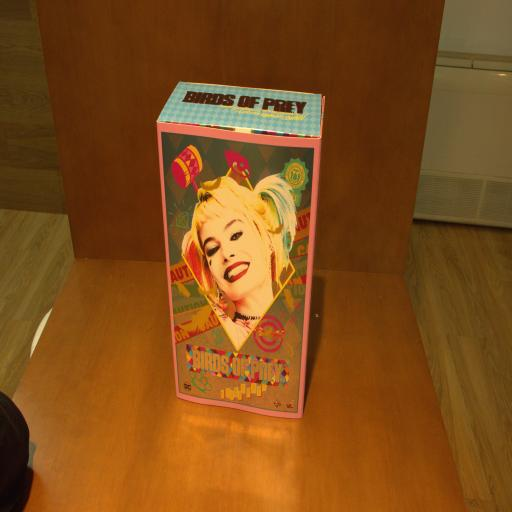Harley: (156, 82, 324, 422)
